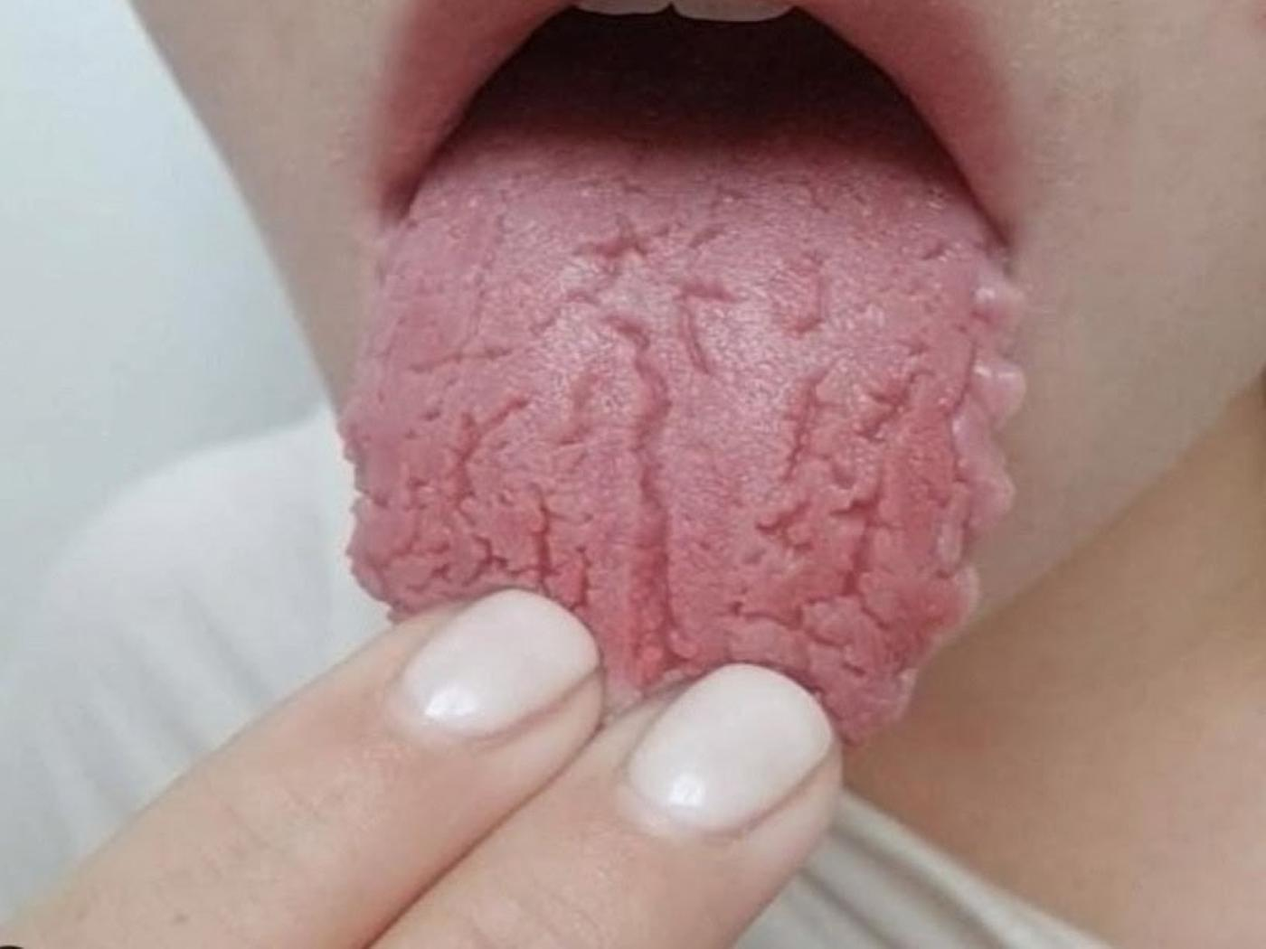liewenshe: (434, 220, 912, 583)
